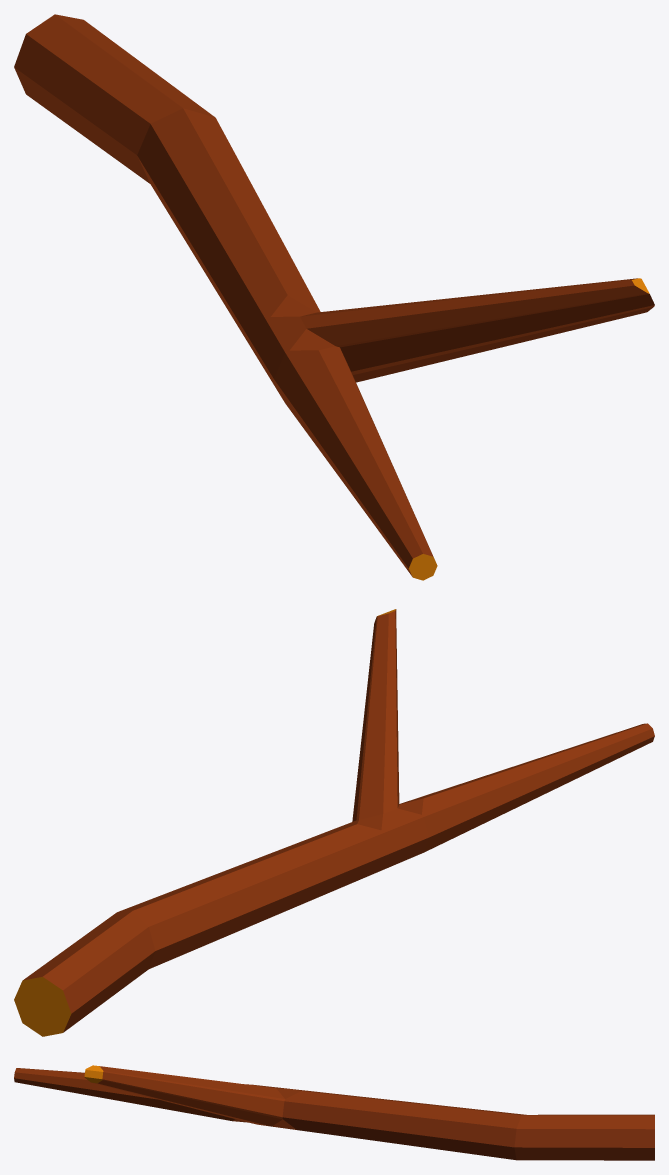
File: Stick_1.fbx
The picture shows the model from 3 angles, top to bottom: view 1: azimuth 30°, elevation 25°; view 2: azimuth 150°, elevation 25°; view 3: azimuth 270°, elevation 25°; orthographic projection. The views are drawn at different scales.
Visible parts, largest first — view 1: Circle.013; view 2: Circle.013; view 3: Circle.013.
Boxes of the visible parts, x1,y1,x2,y2 form: Circle.013: [14, 14, 654, 580]; Circle.013: [14, 609, 654, 1036]; Circle.013: [14, 1065, 654, 1160].
Size of the model in its own units: 13.28 by 8 by 44.51.
